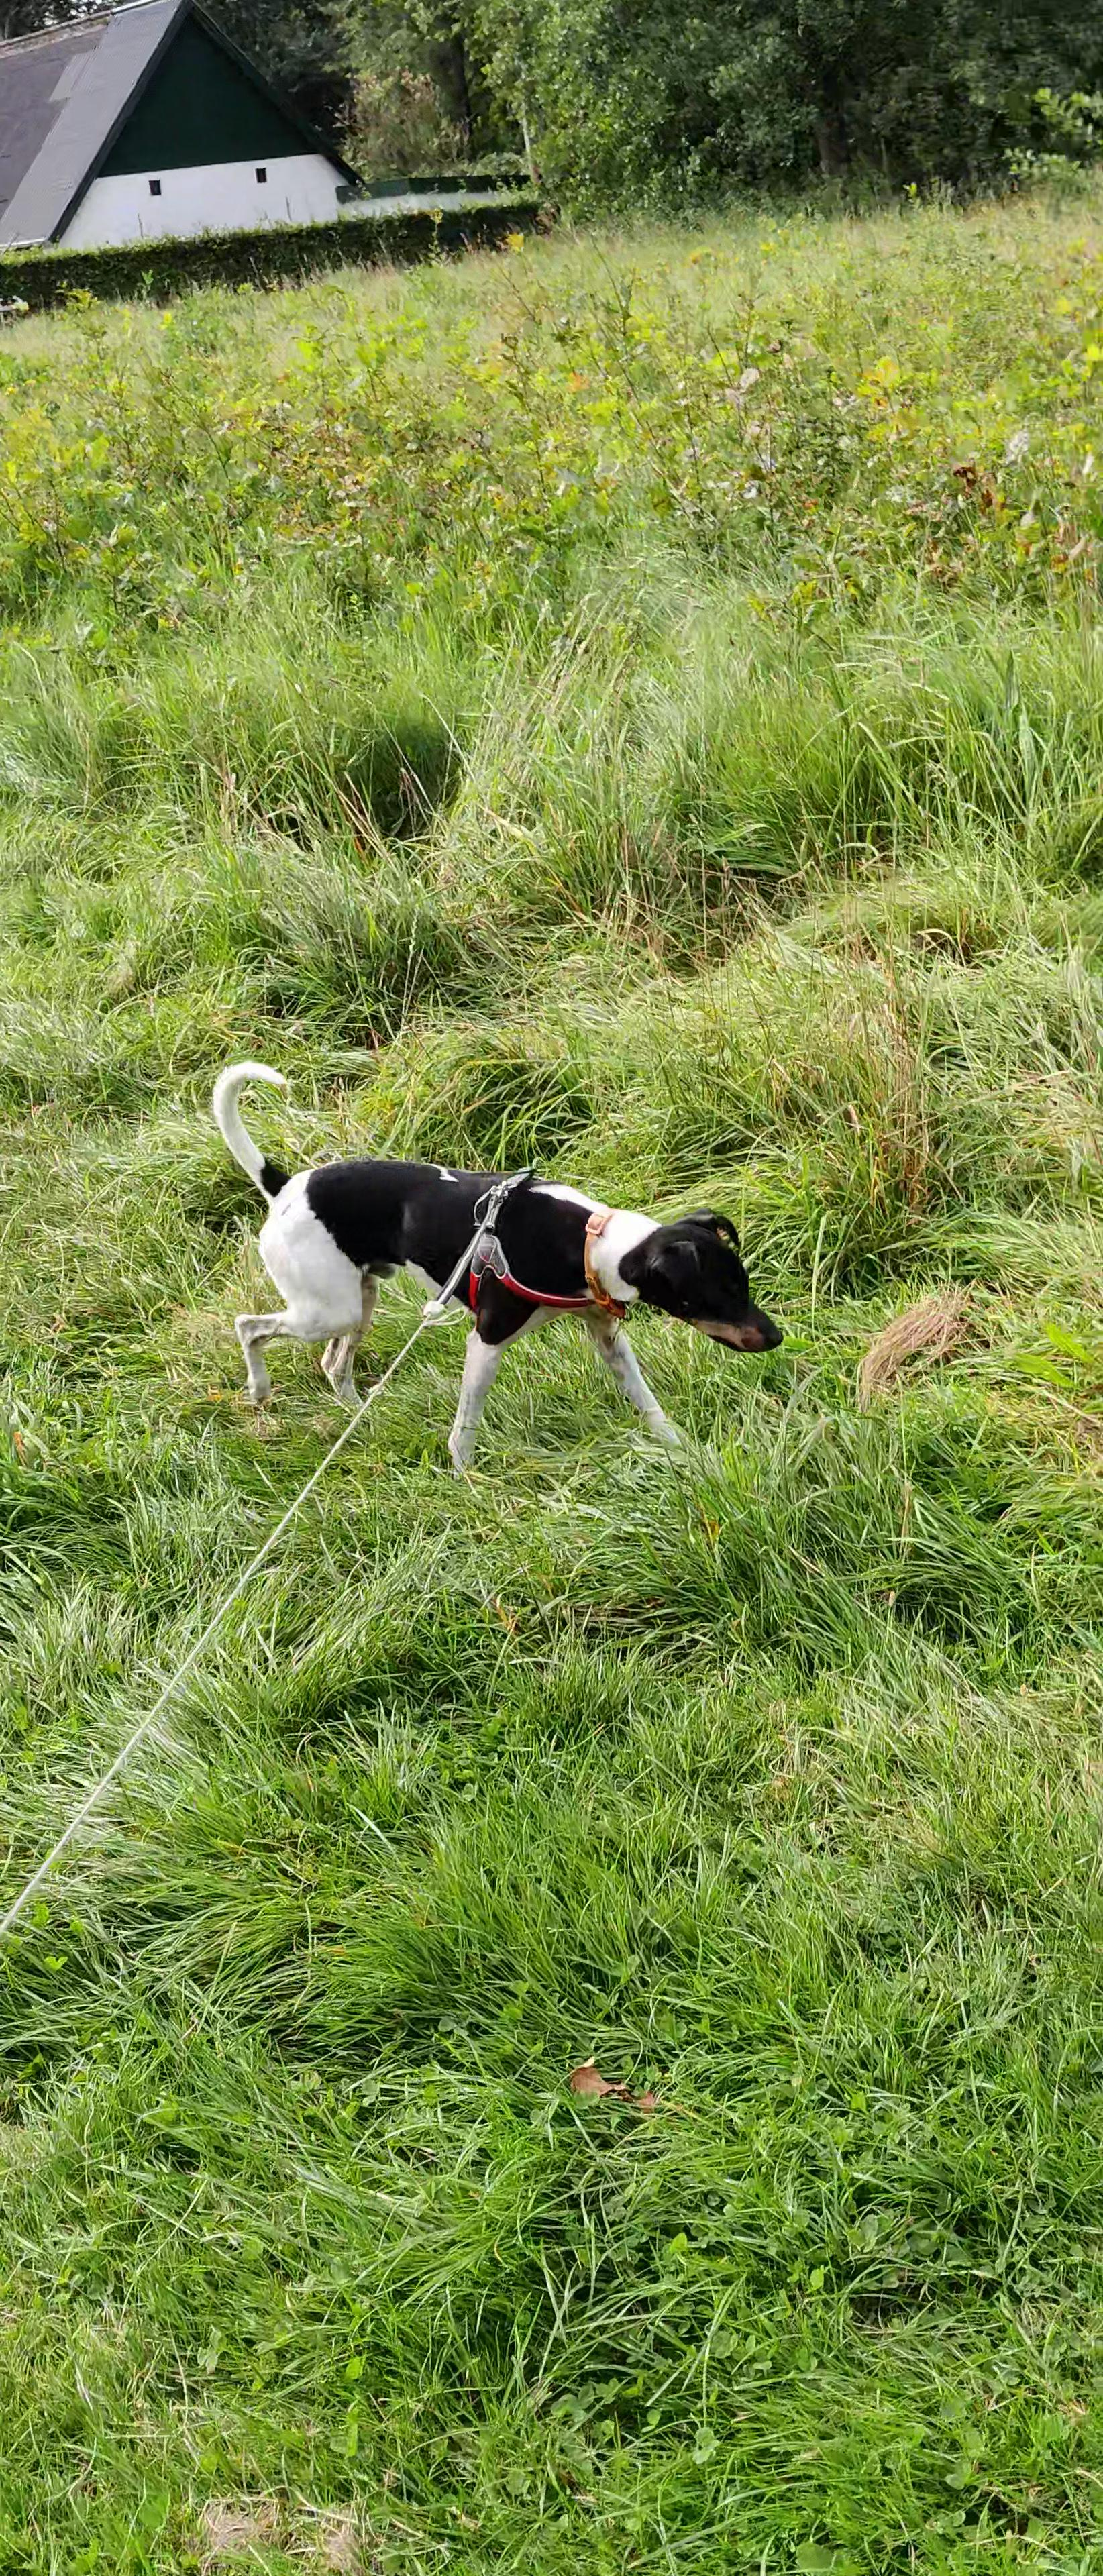Dog: (192, 1050, 804, 1487)
